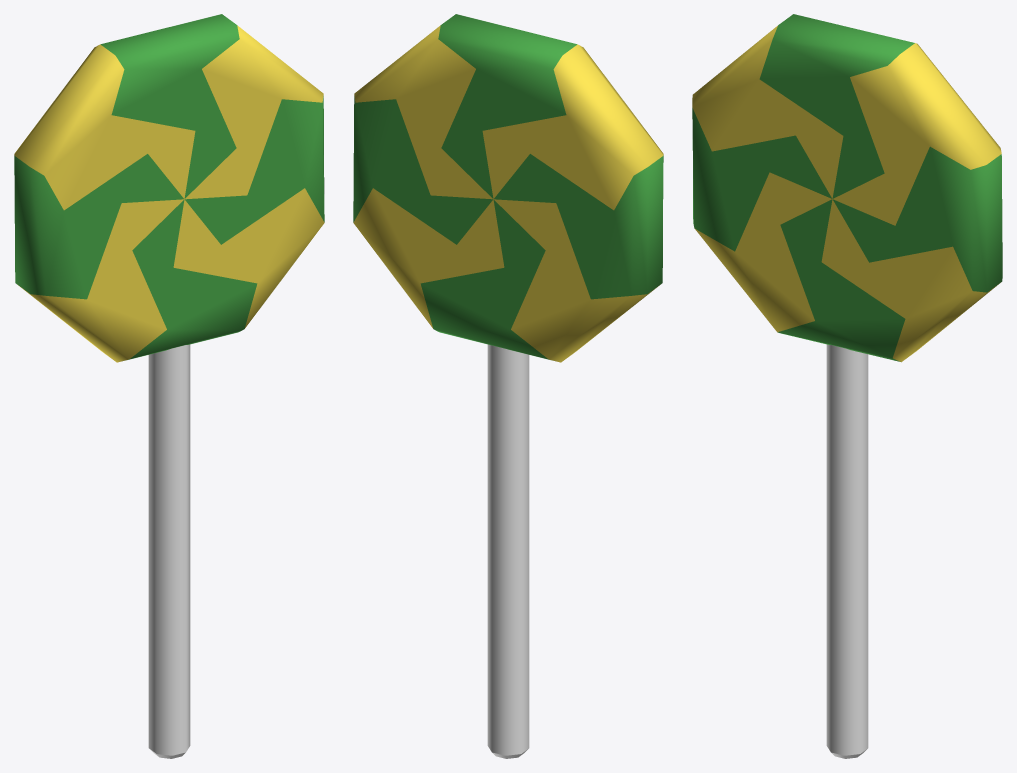
The model's file is Candy_9.fbx.
The picture shows the model from 3 angles, left to right: view 1: azimuth 30°, elevation 25°; view 2: azimuth 150°, elevation 25°; view 3: azimuth 330°, elevation 25°; orthographic projection.
Visible parts, largest first — view 1: Candy_9; view 2: Candy_9; view 3: Candy_9.
Boxes of the visible parts, left/top/right/bottom form: Candy_9: left=14, top=14, right=324, bottom=758; Candy_9: left=353, top=14, right=663, bottom=758; Candy_9: left=692, top=14, right=1002, bottom=758.
Size of the model in its own units: 1.22 by 2.85 by 0.2159.
